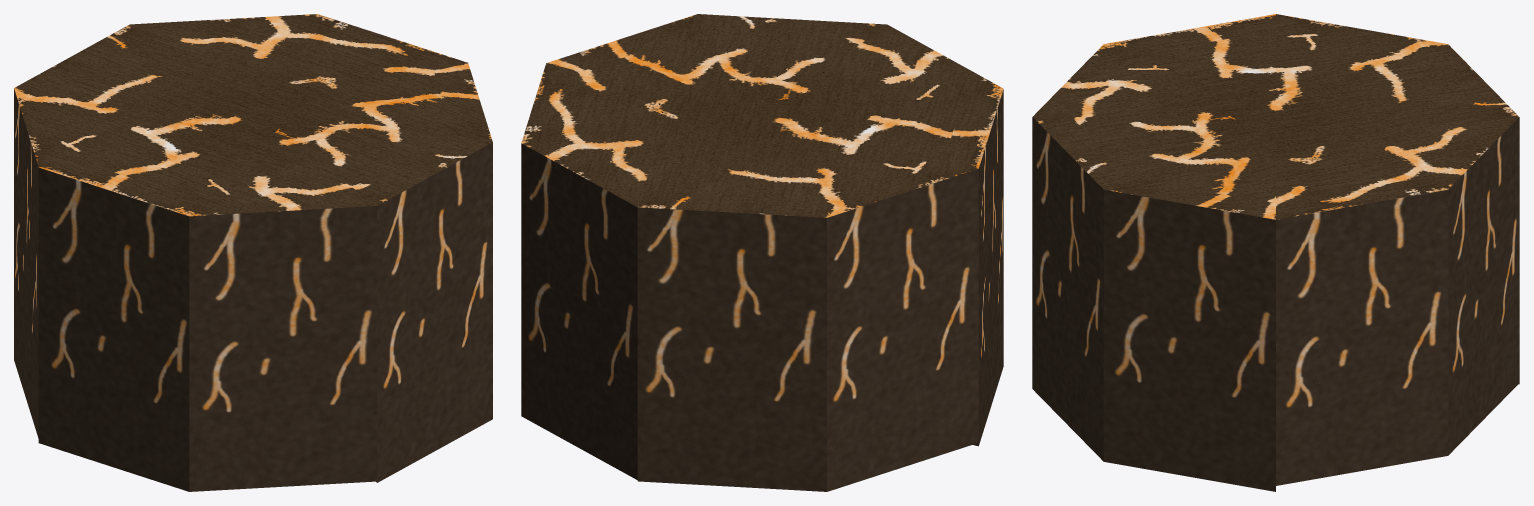
File: lavaMap.FBX
The picture shows the model from 3 angles, left to right: view 1: azimuth 30°, elevation 25°; view 2: azimuth 150°, elevation 25°; view 3: azimuth 270°, elevation 25°; orthographic projection. The views are drawn at different scales.
Parts seen in each view (by area): view 1: Circle.020, Circle.015, Circle.001, Circle.006, Circle.008, Circle.019, Circle.002, Circle.014, Circle.018, Circle.007, Circle.013, Circle.003 (+9 smaller); view 2: Circle.001, Circle.006, Circle.020, Circle.015, Circle.002, Circle.014, Circle.019, Circle.008, Circle.013, Circle.003, Circle.007, Circle.018 (+9 smaller); view 3: Circle.015, Circle.006, Circle.001, Circle.020, Circle.019, Circle.002, Circle.014, Circle.008, Circle.018, Circle.003, Circle.013, Circle.007 (+9 smaller).
Part boxes in pixels (<box>): Circle.020: <box>38,159,377,491</box>; Circle.015: <box>358,63,492,482</box>; Circle.001: <box>14,24,148,438</box>; Circle.006: <box>130,14,467,70</box>; Circle.008: <box>150,30,433,79</box>; Circle.019: <box>73,150,356,199</box>; Circle.002: <box>52,39,169,158</box>; Circle.014: <box>337,71,454,191</box>; Circle.018: <box>110,142,335,182</box>; Circle.007: <box>171,47,396,88</box>; Circle.013: <box>317,80,413,175</box>; Circle.003: <box>93,54,189,149</box>; Circle.001: <box>637,160,978,491</box>; Circle.006: <box>521,63,657,479</box>; Circle.020: <box>867,24,1003,446</box>; Circle.015: <box>546,14,886,71</box>; Circle.002: <box>658,151,943,201</box>; Circle.014: <box>581,30,866,80</box>; Circle.019: <box>846,39,964,159</box>; Circle.008: <box>560,71,678,192</box>; Circle.013: <box>618,47,845,88</box>; Circle.003: <box>679,143,906,184</box>; Circle.007: <box>601,80,698,176</box>; Circle.018: <box>826,55,923,151</box>; Circle.015: <box>1032,117,1275,491</box>; Circle.006: <box>1276,117,1519,485</box>; Circle.001: <box>1276,14,1519,384</box>; Circle.020: <box>1033,14,1275,116</box>; Circle.019: <box>1072,30,1275,116</box>; Circle.002: <box>1276,30,1479,116</box>; Circle.014: <box>1072,117,1275,203</box>; Circle.008: <box>1276,117,1479,203</box>; Circle.018: <box>1113,48,1275,116</box>; Circle.003: <box>1276,48,1438,116</box>; Circle.013: <box>1113,117,1275,185</box>; Circle.007: <box>1276,117,1438,185</box>.
Bounding box in the file's own units: 550 × 340 × 550.
1 material, 1 textured.
